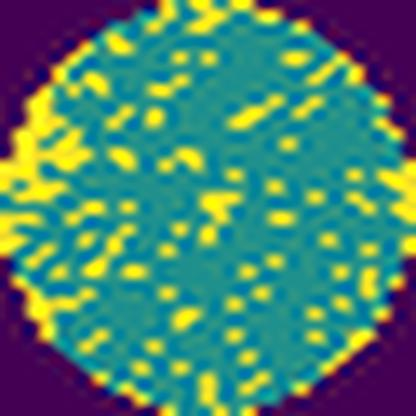Edge-Loc: (0, 32, 107, 200), (11, 262, 97, 350), (376, 150, 416, 227), (0, 209, 46, 252)
